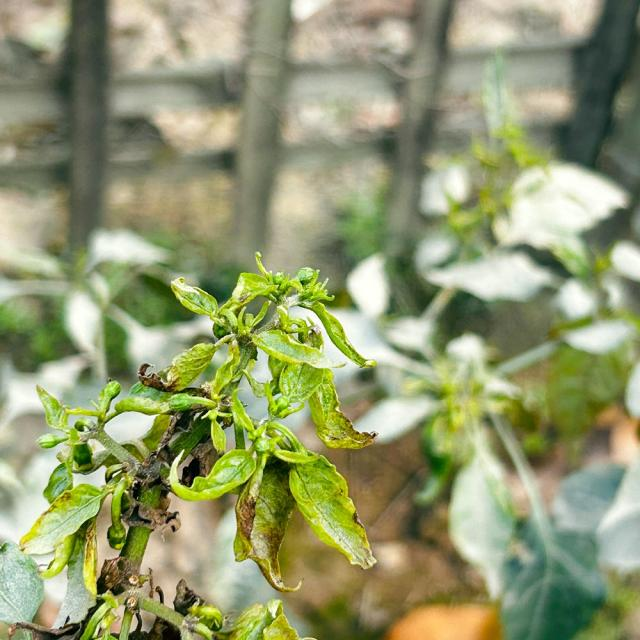Chilli_Leaf_Curl: (16, 250, 380, 634)
